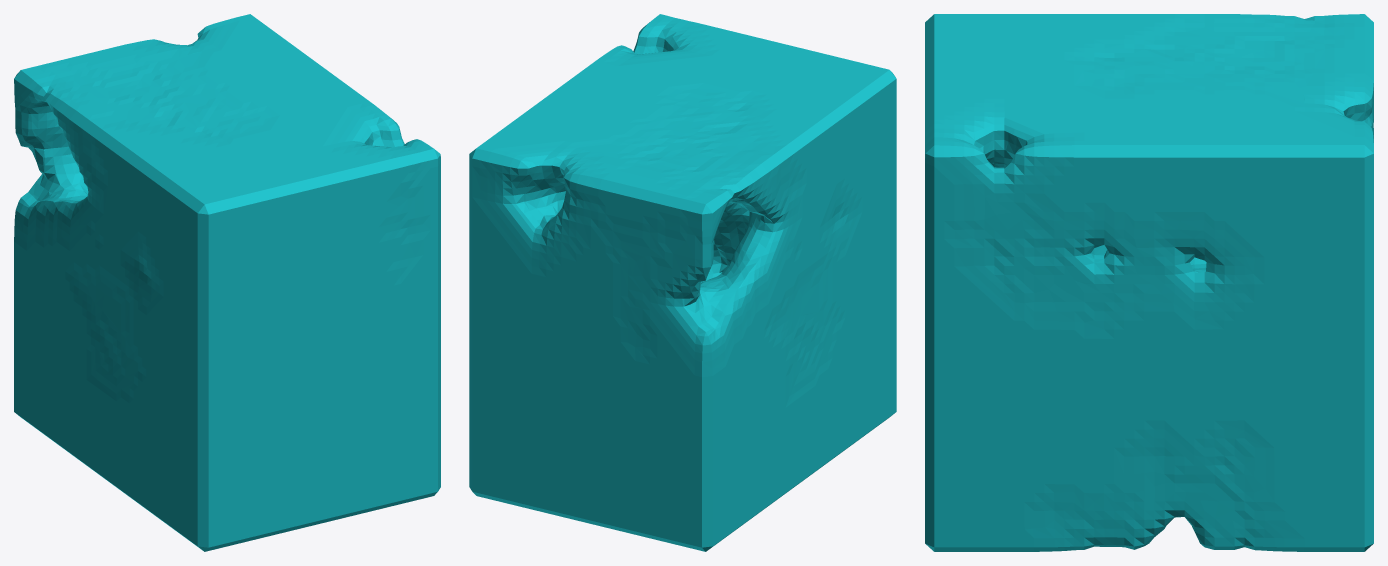
3 views of the same model, side by side, from view 1: azimuth 30°, elevation 25°; view 2: azimuth 150°, elevation 25°; view 3: azimuth 270°, elevation 25° (orthographic). The views are drawn at different scales.
Parts seen in each view (by area): view 1: Liquid_Domain; view 2: Liquid_Domain; view 3: Liquid_Domain.
Boxes of the visible parts, bbox=[...] form: Liquid_Domain: bbox=[14, 14, 440, 551]; Liquid_Domain: bbox=[469, 14, 896, 551]; Liquid_Domain: bbox=[925, 14, 1373, 551].
Size of the model in its own units: 79.09 by 108 by 108.
